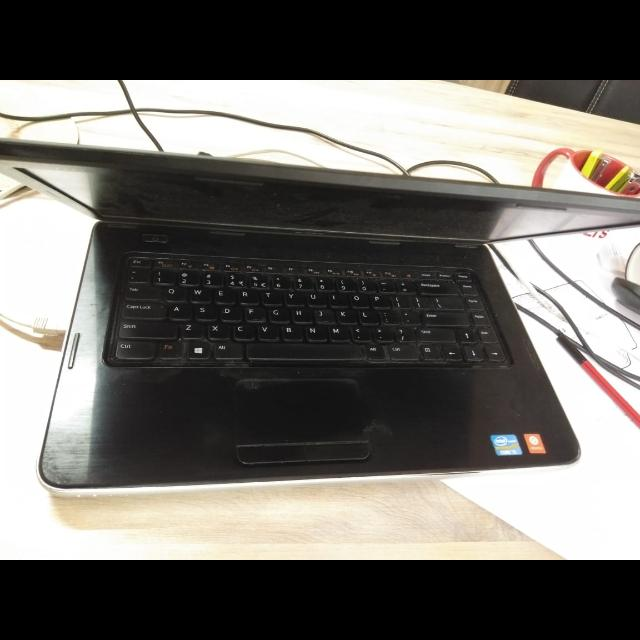Laptop: (1, 121, 640, 507)
